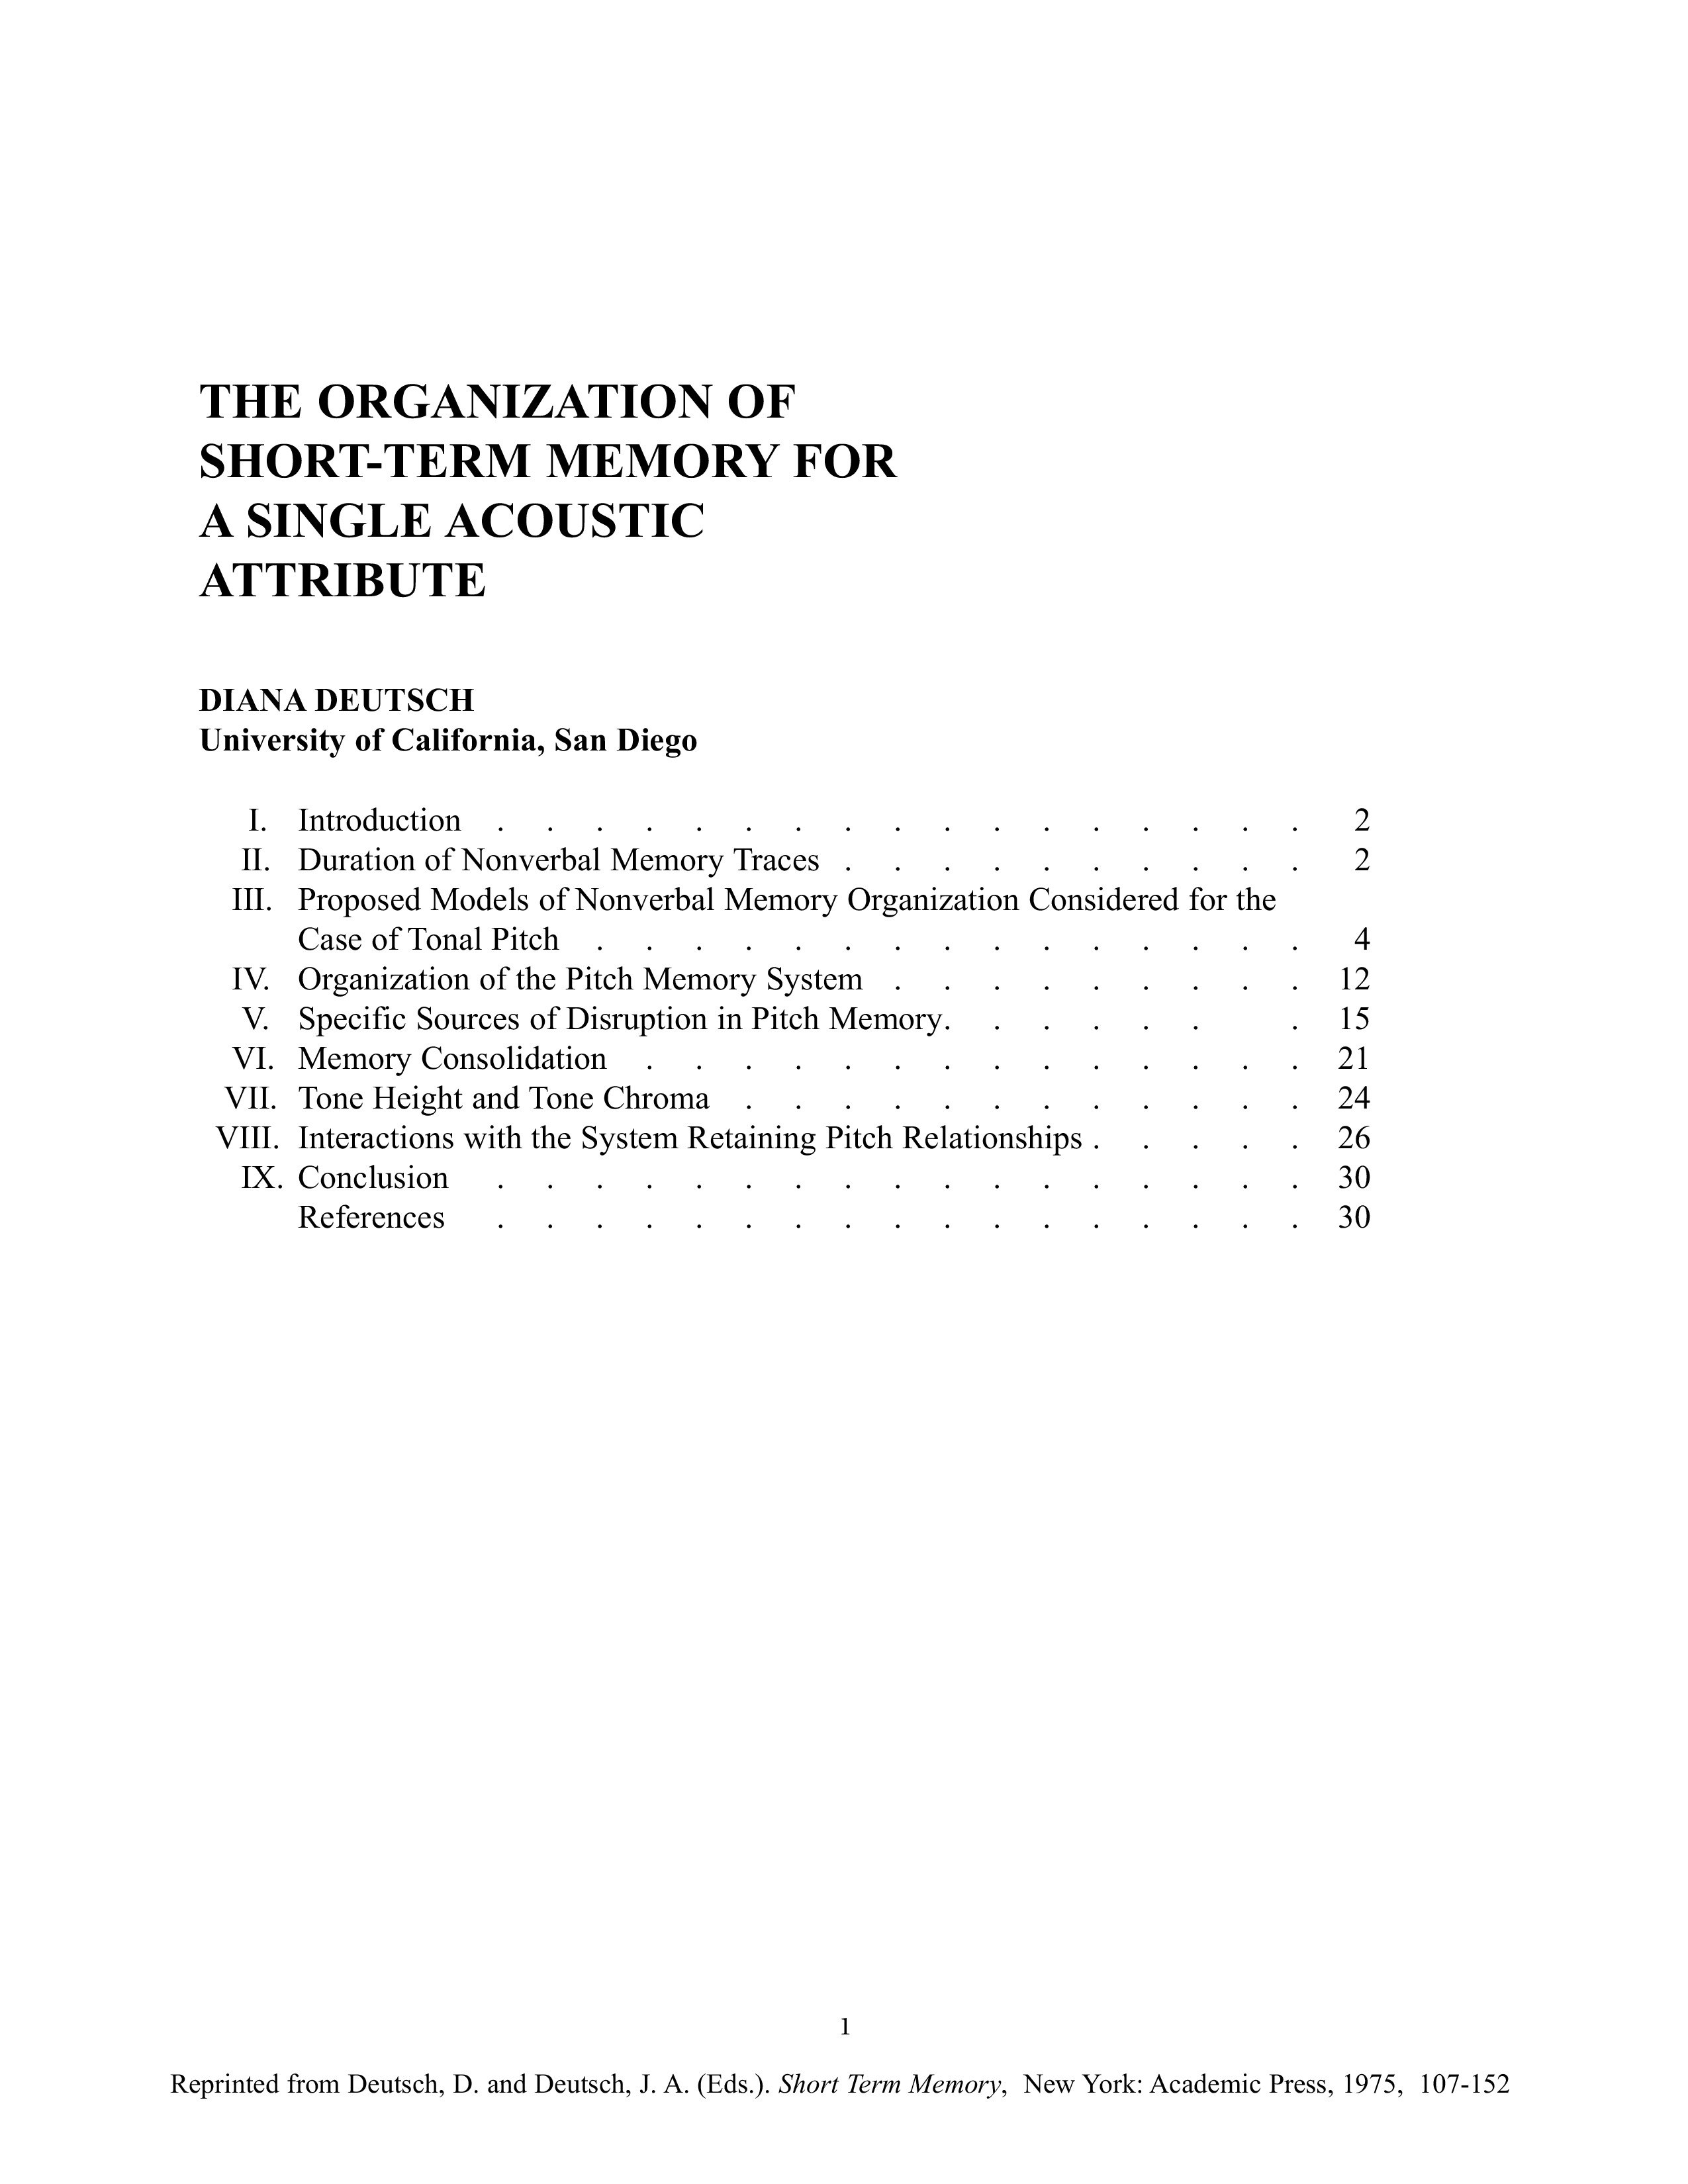section: (200, 356, 915, 622), (190, 675, 709, 766)
table: (223, 785, 1392, 1259)
